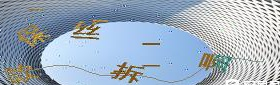chinese: (16, 23, 54, 48), (108, 62, 144, 85), (71, 20, 103, 42), (194, 49, 225, 71)
